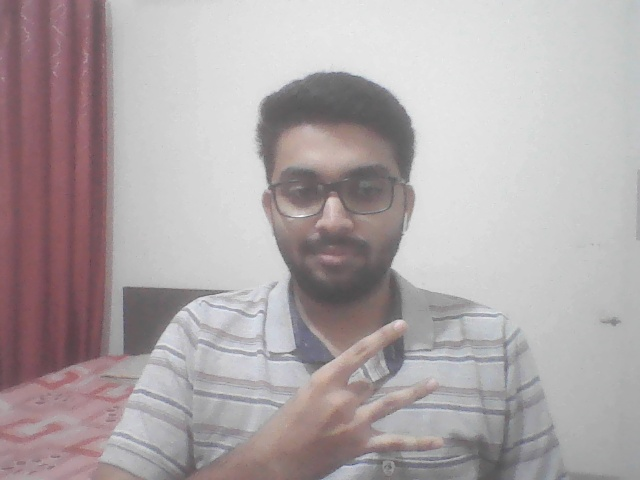like: (242, 315, 456, 476)
